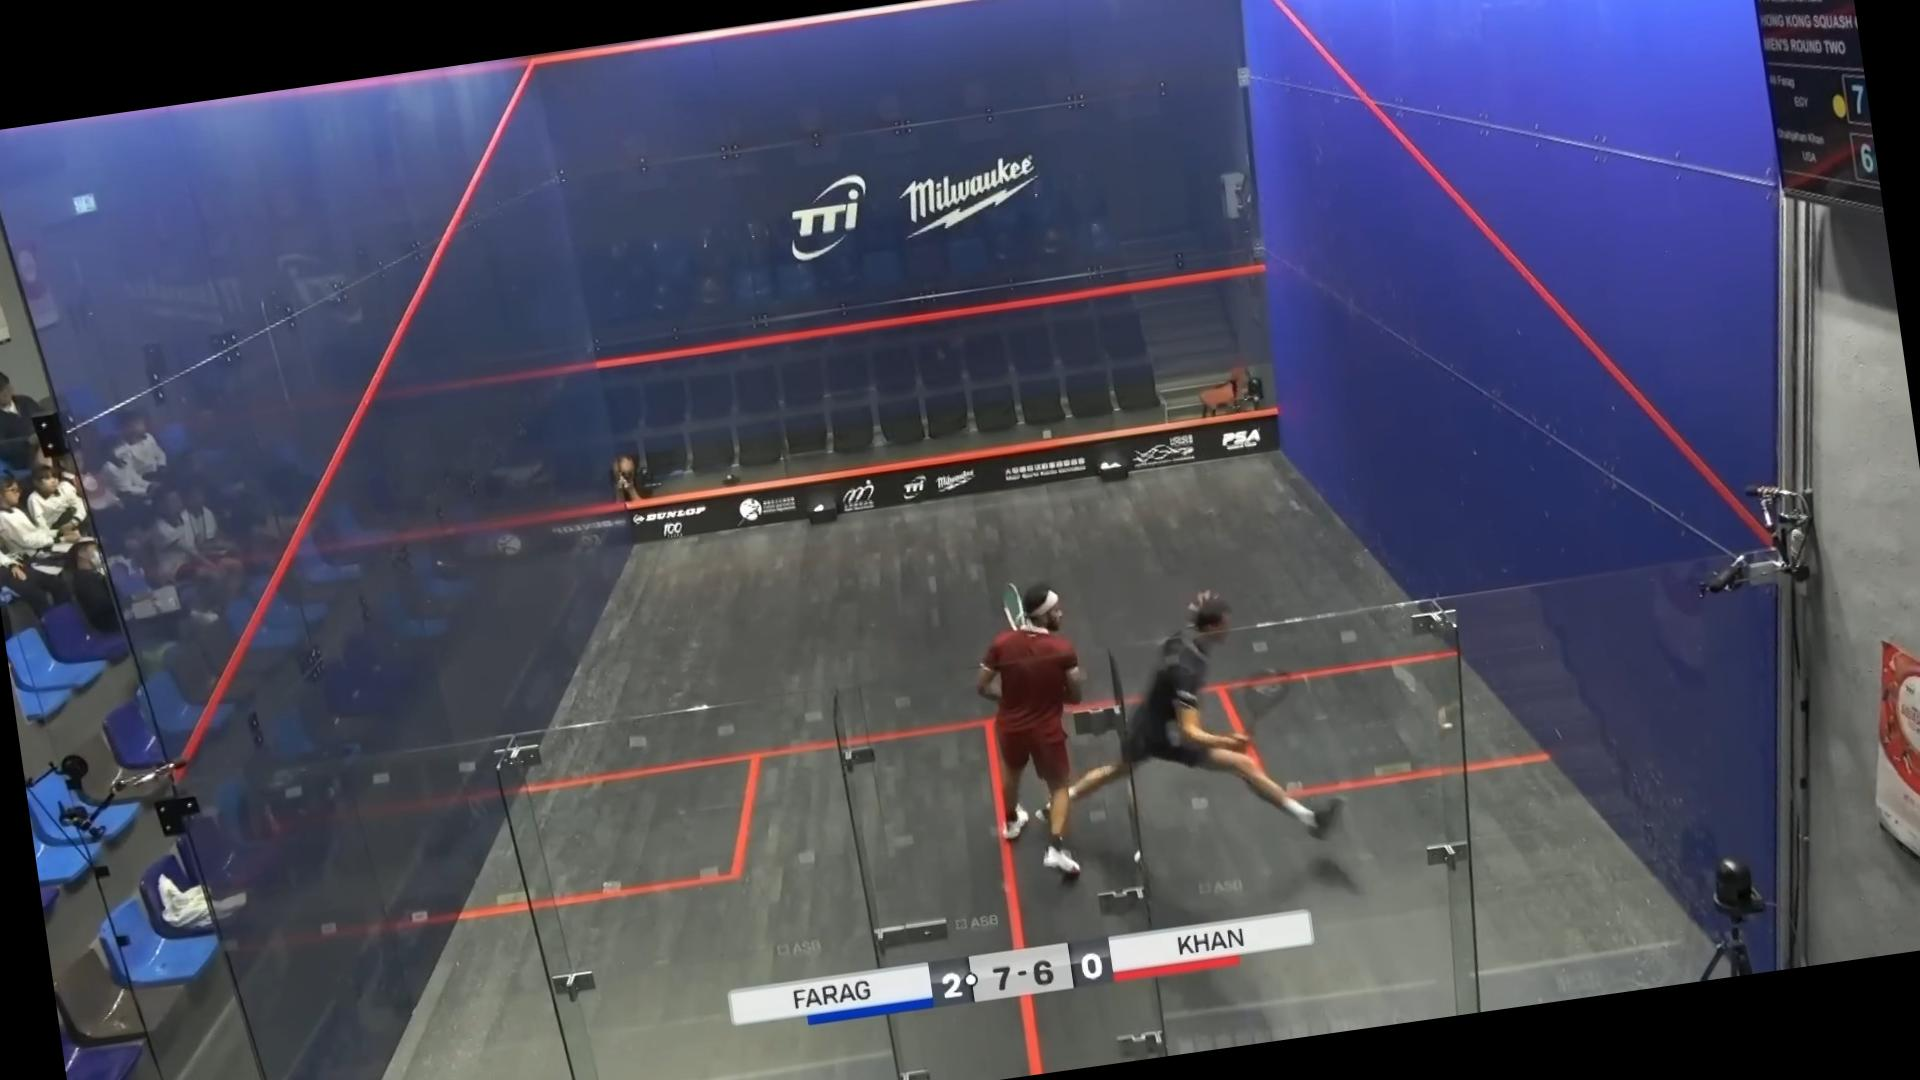Racket: (1226, 662, 1300, 742), (985, 568, 1031, 636)
